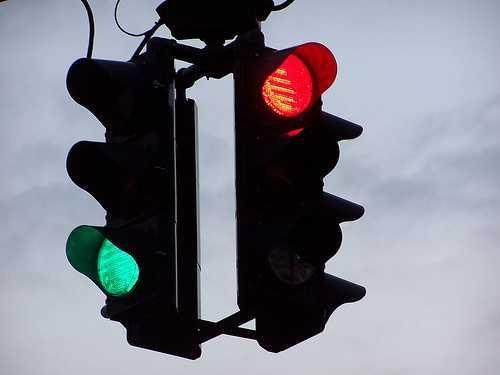2: (64, 36, 170, 312)
5: (248, 40, 344, 118)
8: (236, 25, 343, 321)
red traffic light: (65, 219, 161, 301)
